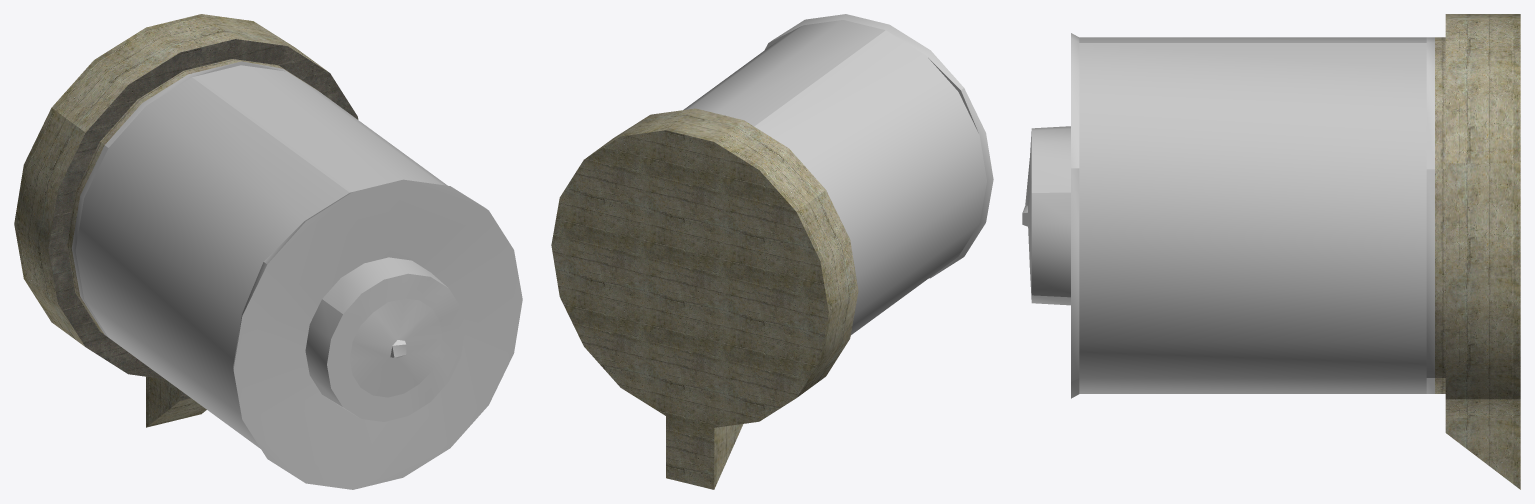
File: tank_2_LOD2.fbx
3 renders of one model, left to right at view 1: azimuth 30°, elevation 25°; view 2: azimuth 150°, elevation 25°; view 3: azimuth 270°, elevation 25°, orthographic. The views are drawn at different scales.
Visible parts, largest first — view 1: MSH-Object; view 2: MSH-Object; view 3: MSH-Object.
Boxes of the visible parts, x1,y1,x2,y2 form: MSH-Object: (14, 14, 522, 489); MSH-Object: (551, 14, 993, 489); MSH-Object: (1022, 14, 1520, 489).
Bounding box in the file's own units: 31.02 × 37.18 × 38.16.
